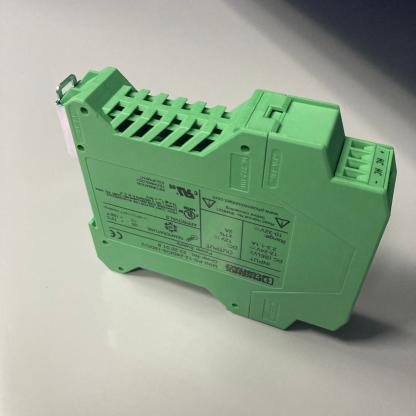SP0000011: (33, 47, 414, 352)
